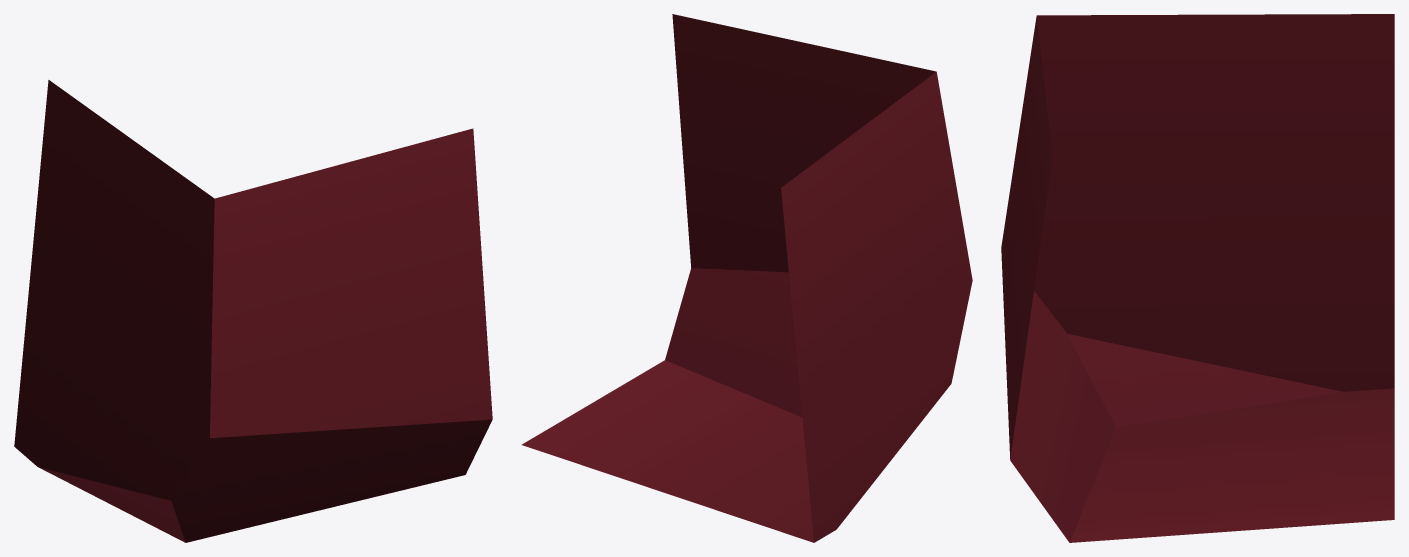
File: fragment_3.obj
3 renders of one model, left to right at view 1: azimuth 30°, elevation 25°; view 2: azimuth 150°, elevation 25°; view 3: azimuth 270°, elevation 25°, orthographic. The views are drawn at different scales.
Parts seen in each view (by area): view 1: BossFragment3; view 2: BossFragment3; view 3: BossFragment3.
Boxes of the visible parts, x1,y1,x2,y2 form: BossFragment3: (14,80,492,542); BossFragment3: (521,14,972,542); BossFragment3: (1001,14,1394,542).
Size of the model in its own units: 1.04 by 1.22 by 1.07.
Materials: 1 (1 with a texture image).
